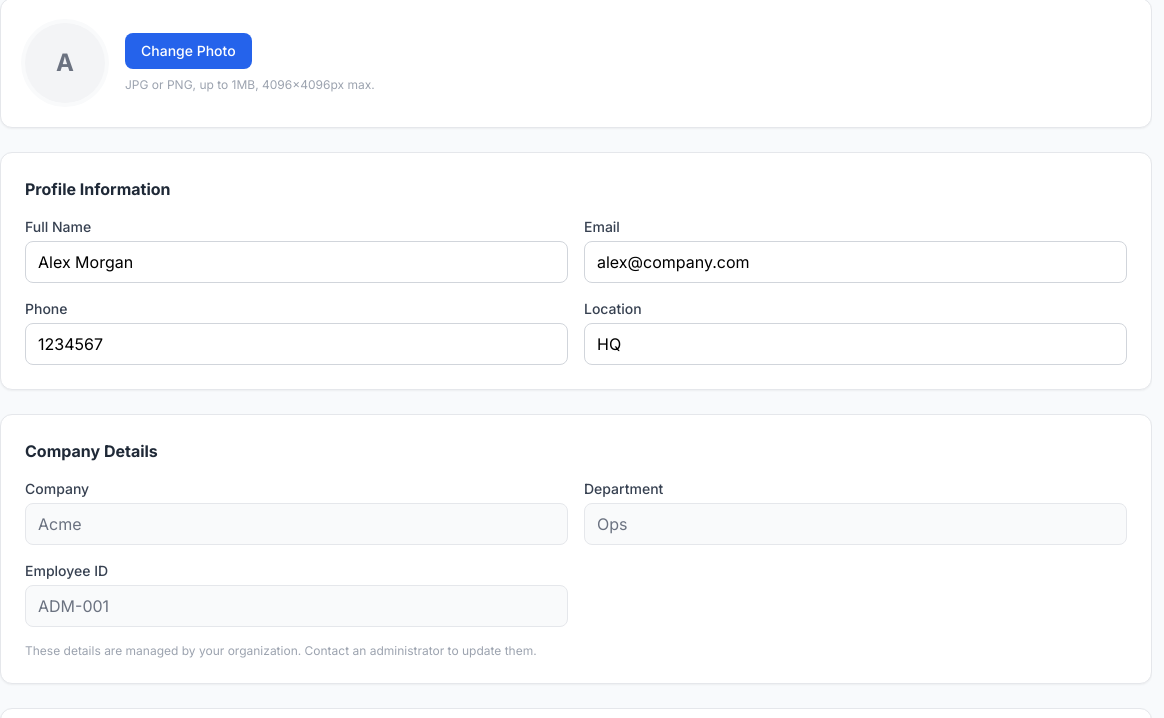
AccountSettingsForm › disables Save until a field changes, and disables it again after a successful save
The width and height of the screenshot is (1164, 718).
Replace the text in the field labelled "Location" with "Remote". click: [856, 344]
box: [584, 323, 1127, 365]
(page scrolled)
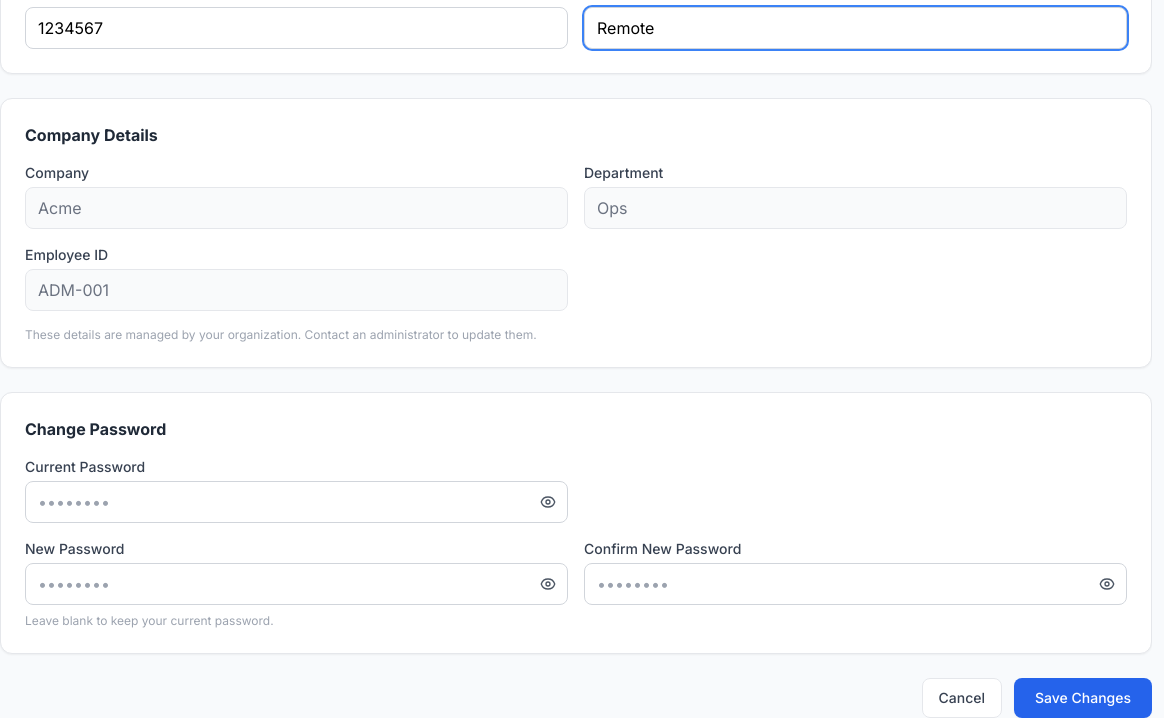
Expected: the button "Save Changes" is enabled
Click the button "Save Changes". click: [1083, 698]
box: [1014, 678, 1152, 717]
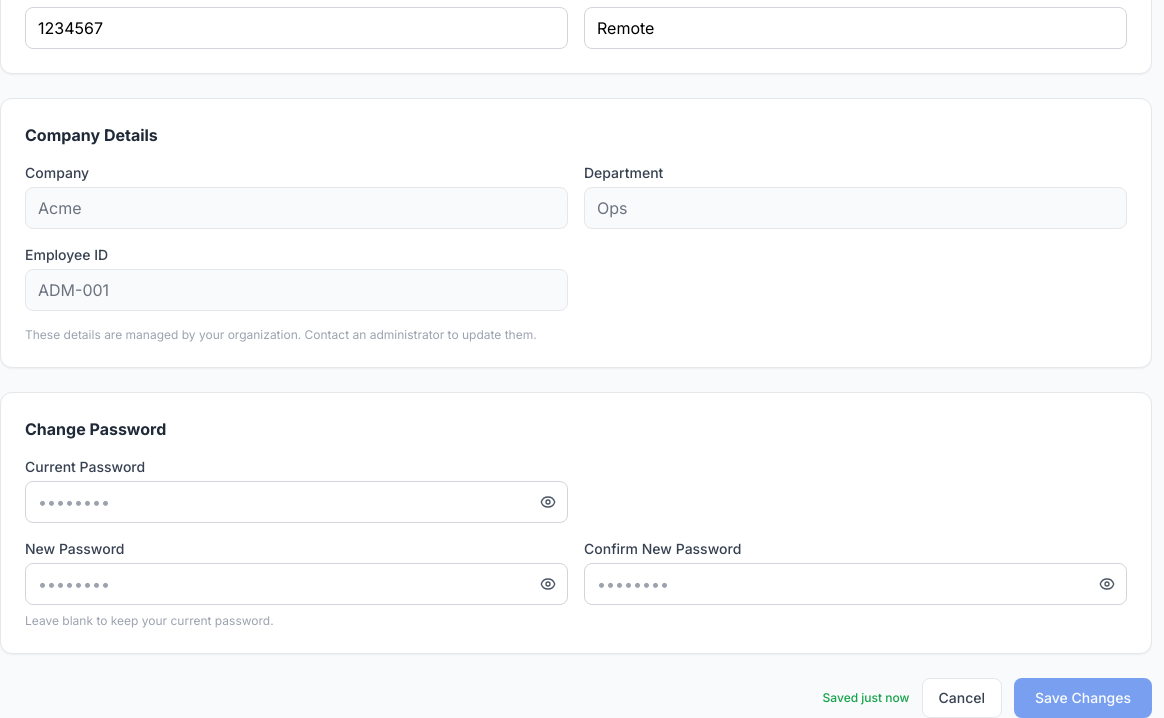
Expected: the button "Save Changes" is disabled, [1014, 678, 1152, 717]
